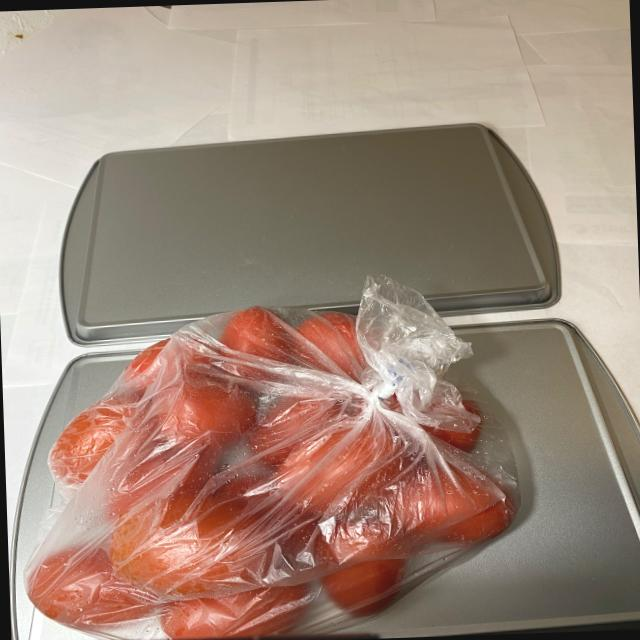tomato: (6, 305, 508, 627)
